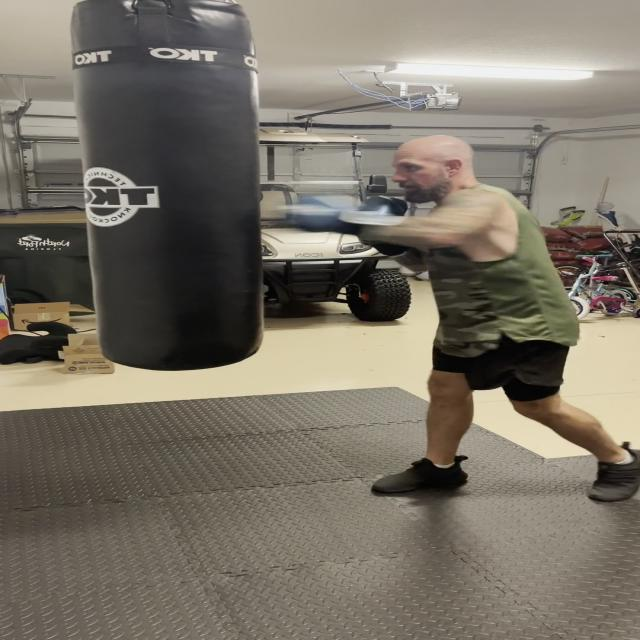bag: (72, 1, 252, 384)
cross: (242, 101, 564, 271)
